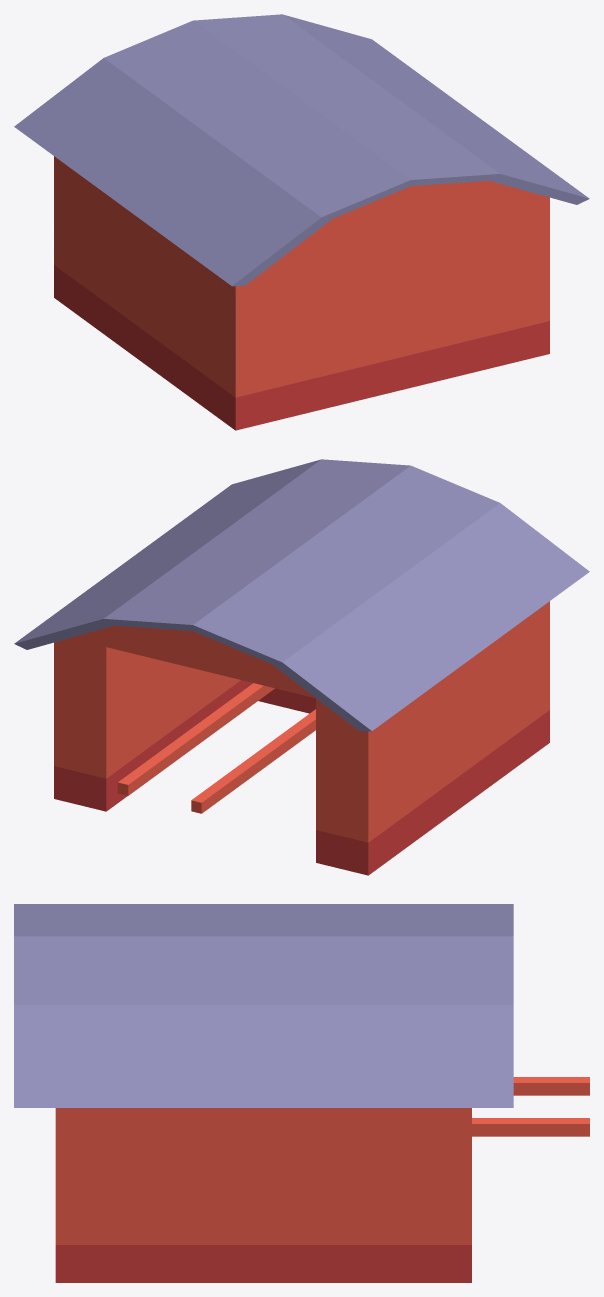
The model's file is warehouse.fbx.
3 views of the same model, one above another, from view 1: azimuth 30°, elevation 25°; view 2: azimuth 150°, elevation 25°; view 3: azimuth 270°, elevation 25° (orthographic). The views are drawn at different scales.
Parts seen in each view (by area): view 1: mergedBlocks; view 2: mergedBlocks; view 3: mergedBlocks.
Boxes of the visible parts, left/top/right/bottom form: mergedBlocks: left=14, top=14, right=589, bottom=430; mergedBlocks: left=14, top=459, right=589, bottom=875; mergedBlocks: left=14, top=904, right=589, bottom=1282.
Bounding box in the file's own units: 68.32 × 41.12 × 83.01.
